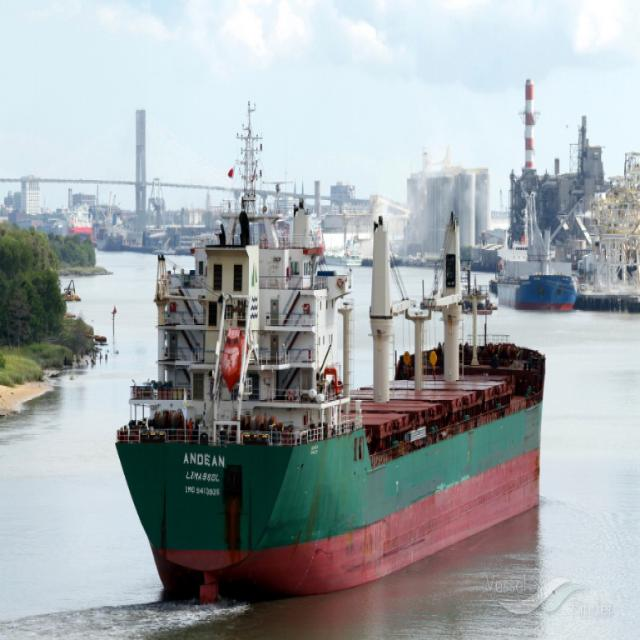OCR: (177, 440, 227, 504)
